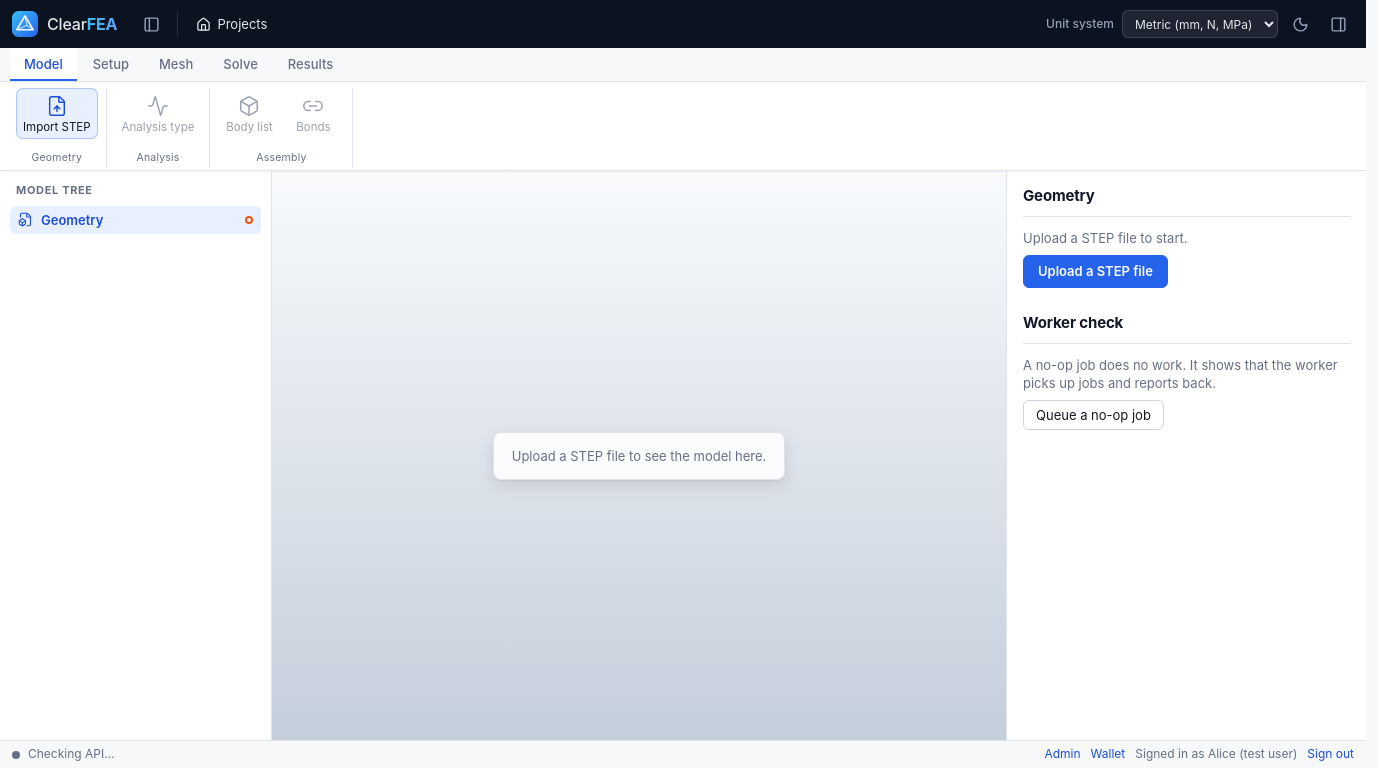
Test: admin page (M10.3) › shows the solver machines and sets the monthly hours limit under Settings (M10.7, M13.3)
Click the button "Admin" at (1063, 754), box [1044, 746, 1081, 763]
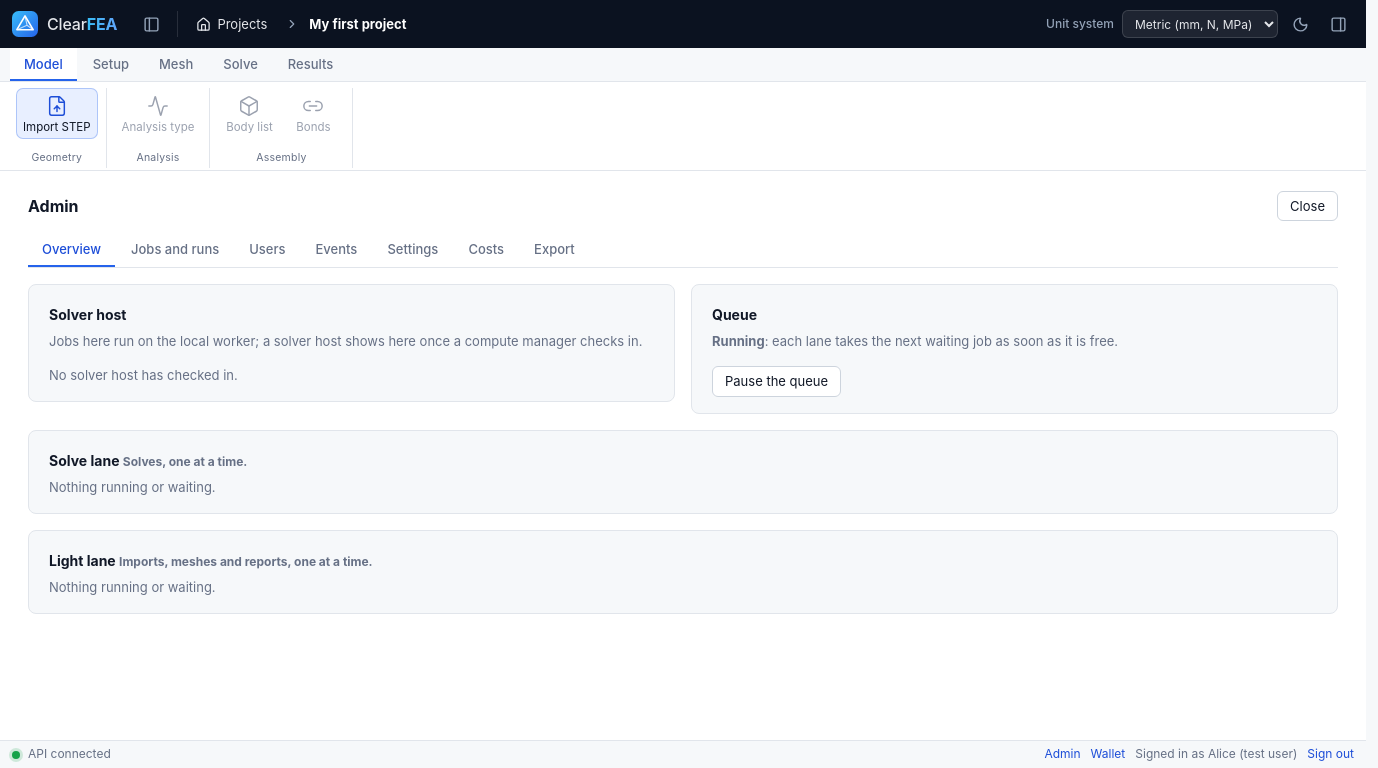
Click the tab "Settings" at (413, 250), box [373, 233, 452, 267]
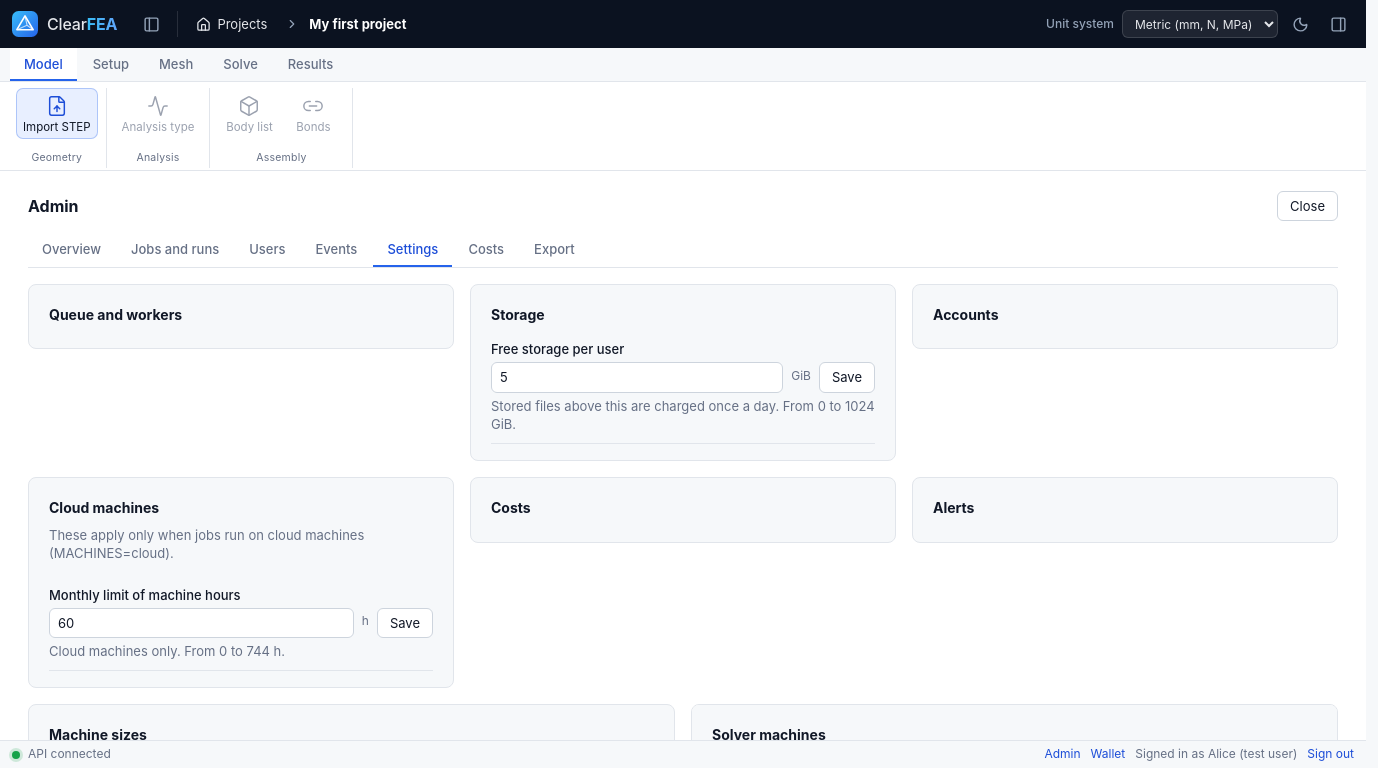
Expected: the field labelled "Monthly limit of machine hours" holds "60"
Replace the text in the field labelled "Monthly limit of machine hours" with "0" at (201, 623), box [49, 608, 354, 638]
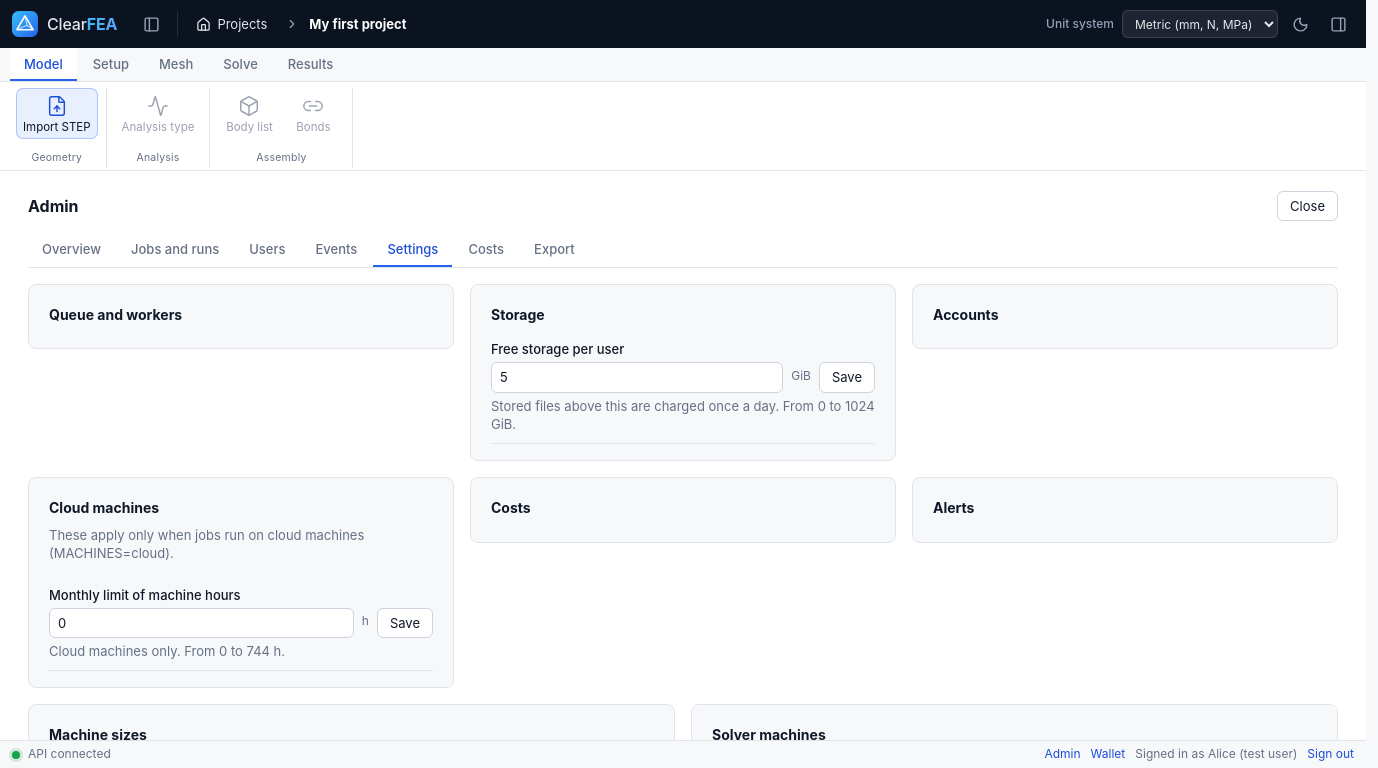
Click the button with aria-label "Save Monthly limit of machine hours" at (405, 623), box [377, 608, 433, 638]
(page scrolled)
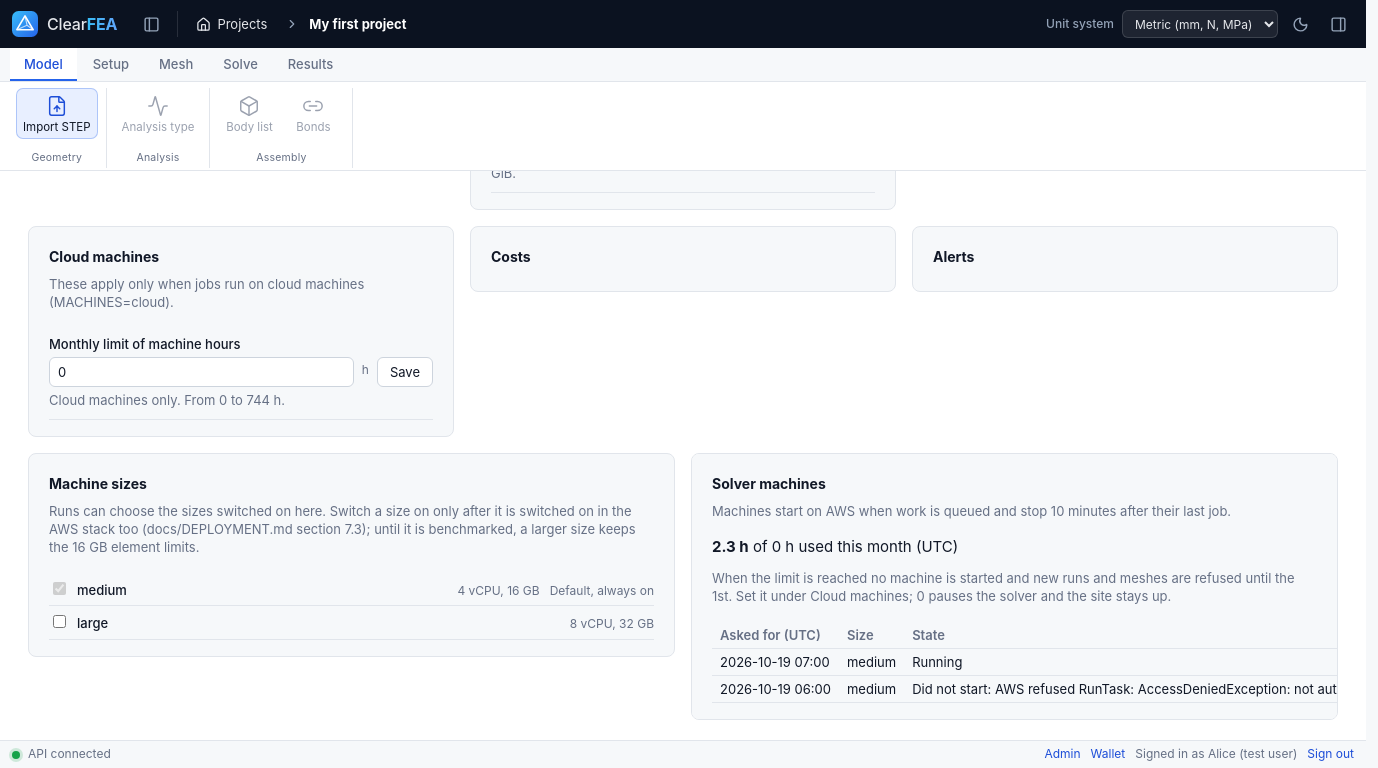
Expected: the text "2.3 h of 0 h used this month (UTC)" is shown, [712, 537, 958, 556]
